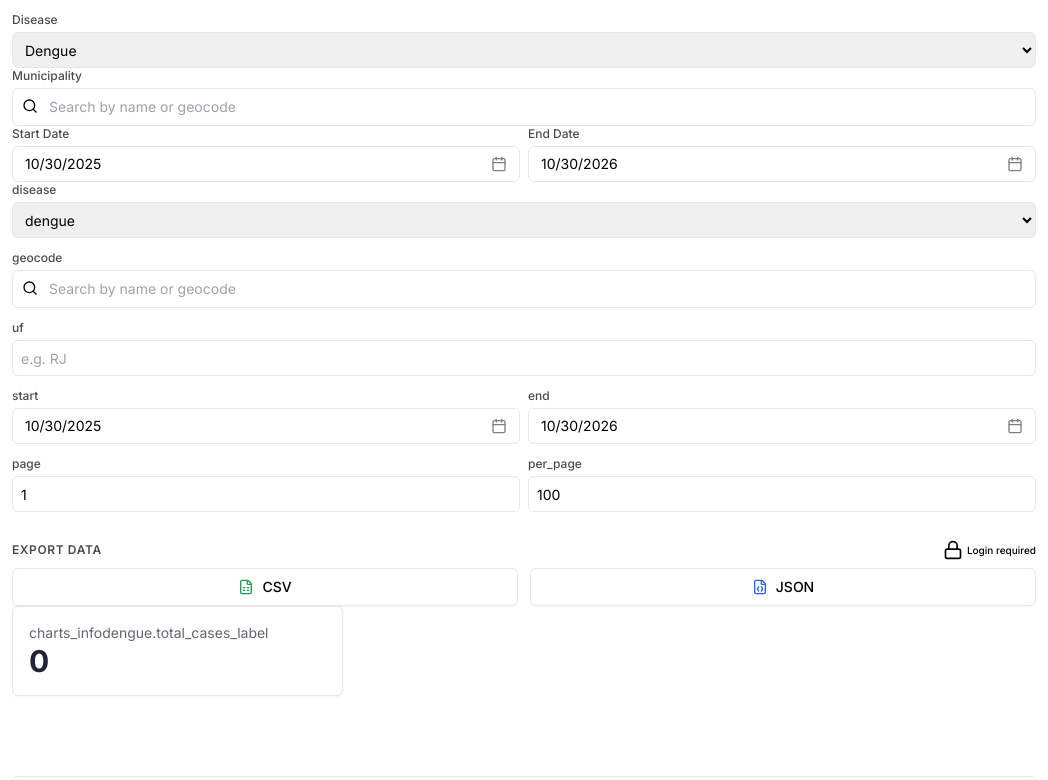
Test case: datastore/views/InfodengueView › shows the date format placeholder when a date is cleared
This screenshot has width=1048, height=780.
Clear the date field labelled "10/30/2025" at (266, 164), box [12, 146, 520, 182]
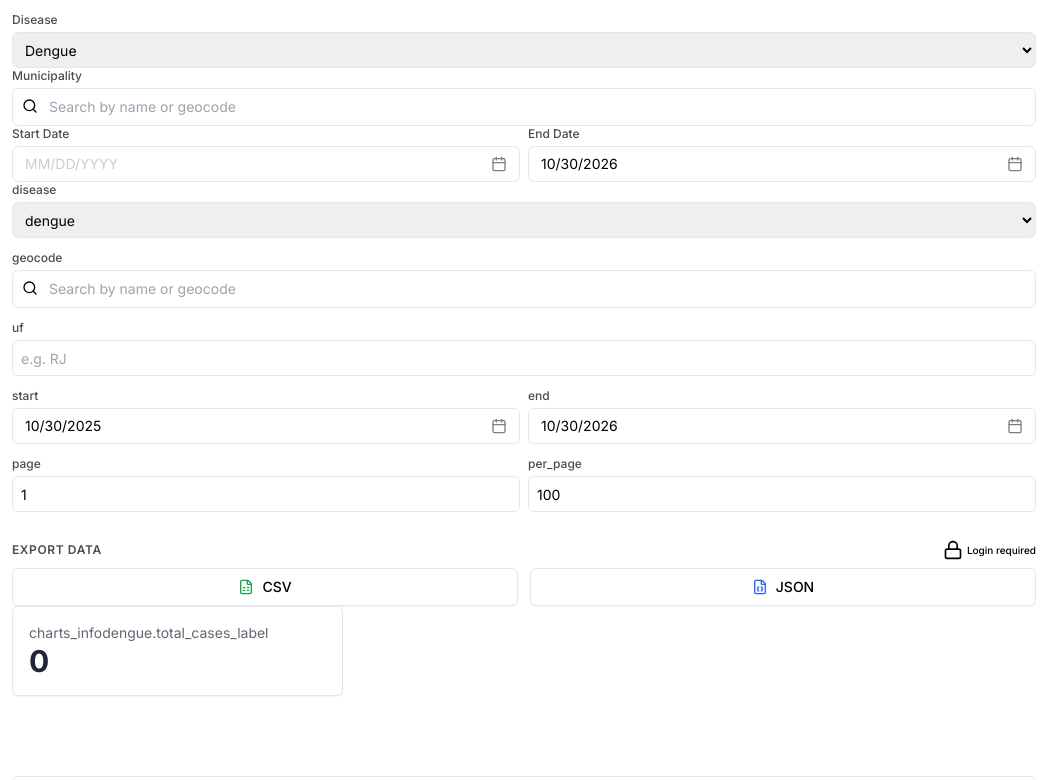
Expected: the text "MM/DD/YYYY" is shown, [25, 155, 118, 172]
